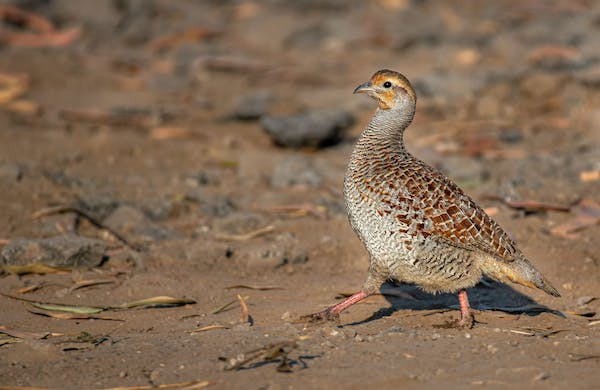Walking: (278, 44, 583, 342)
